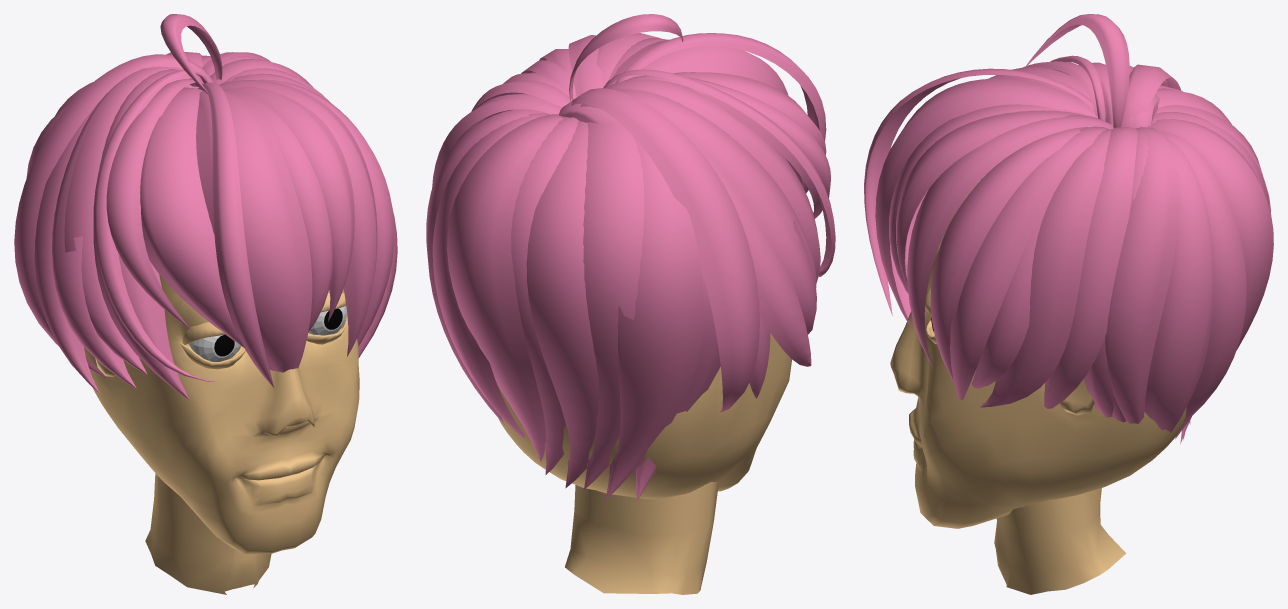
File: head3.fbx
The picture shows the model from 3 angles, left to right: view 1: azimuth 30°, elevation 25°; view 2: azimuth 150°, elevation 25°; view 3: azimuth 270°, elevation 25°; orthographic projection. The views are drawn at different scales.
Visible parts, largest first — view 1: haiir-male, Face.004, Body.008, Eye.008, Eye2.010, Eye1.010; view 2: haiir-male, Body.008, Face.004; view 3: haiir-male, Face.004, Body.008.
Part boxes in pixels (x1,y1,x2,y2): haiir-male: (14, 14, 397, 399); Face.004: (84, 274, 359, 553); Body.008: (145, 473, 271, 594); Eye.008: (189, 306, 346, 361); Eye2.010: (180, 343, 245, 369); Eye1.010: (182, 322, 225, 344); haiir-male: (426, 14, 835, 500); Body.008: (565, 482, 718, 594); Face.004: (497, 332, 791, 498); haiir-male: (864, 14, 1273, 444); Face.004: (890, 126, 1186, 528); Body.008: (994, 488, 1126, 594).
Bounding box in the file's own units: 38.37 × 65.6 × 43.94.
